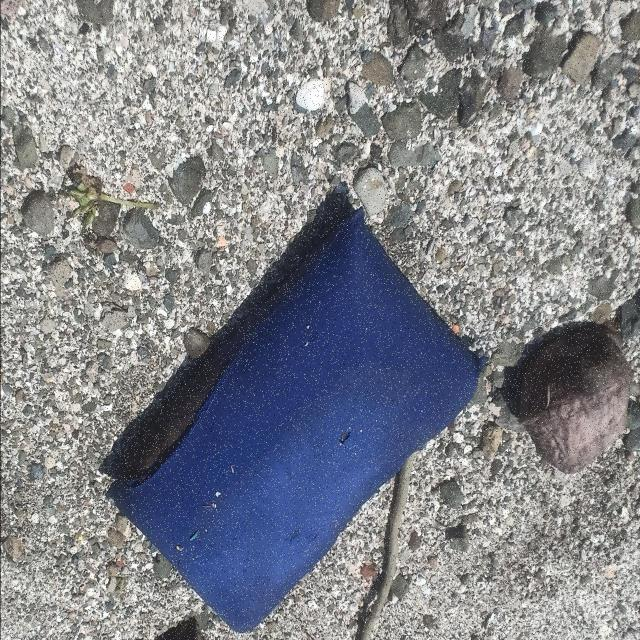textile_waste: (110, 209, 487, 633)
